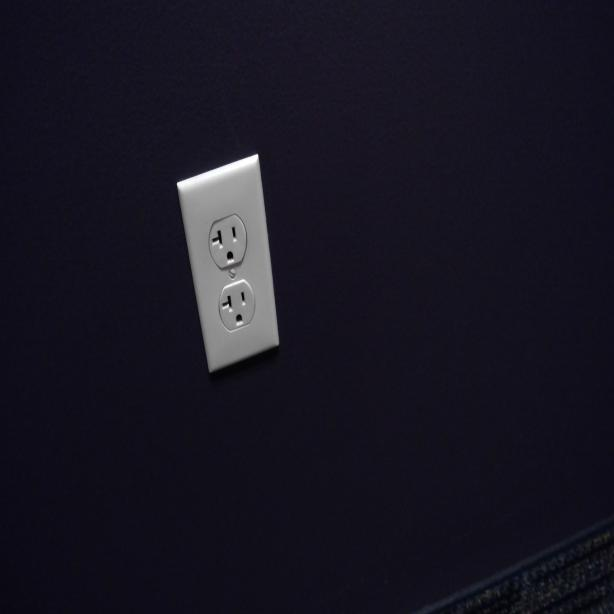typeb: (210, 216, 243, 268), (221, 284, 249, 330)
